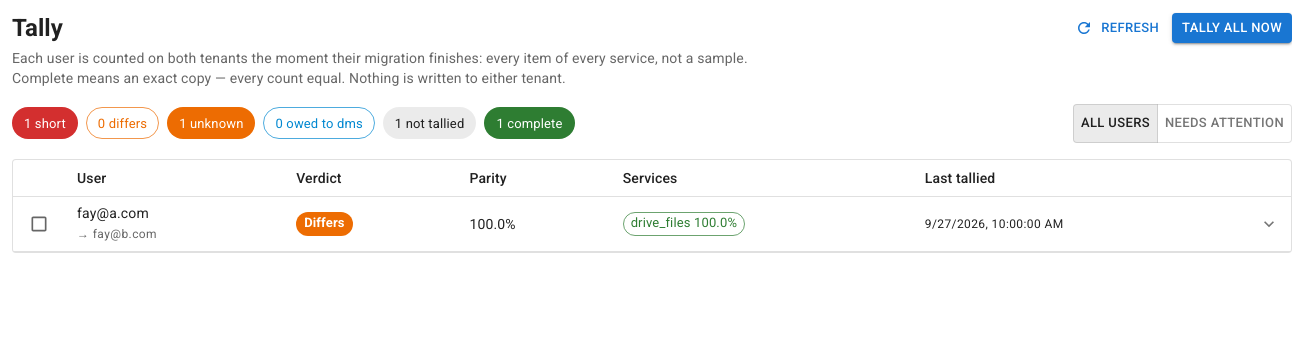
Test: what is found › shows counts that agree over items that do not as Differs, with which items
The image size is (1304, 360).
Check: the element with test id "verdict-fay@a.com" reads "Differs", box x1=304 y1=216 x2=345 y2=230
Click the button named "show fay@a.com": click(1269, 224) x1=1259 y1=214 x2=1279 y2=234
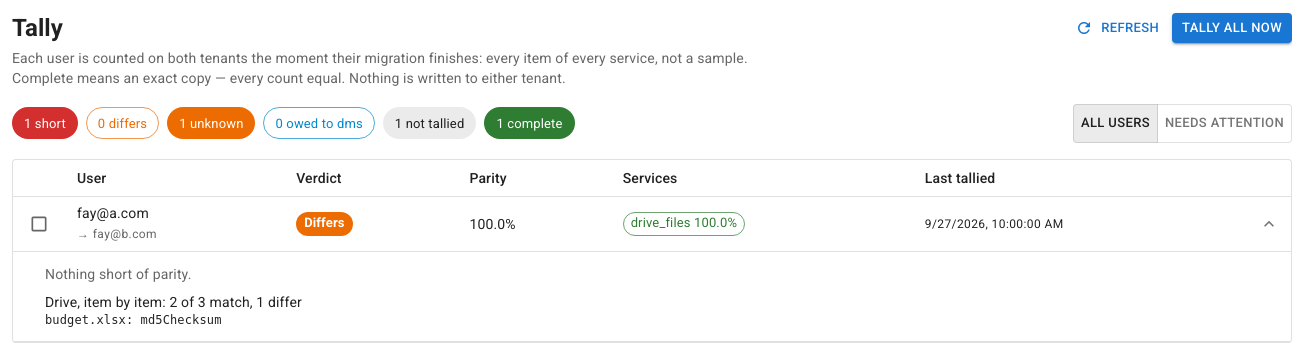
Check: the element with test id "items-fay@a.com" shows "2 of 3 match, 1 differ", box x1=45 y1=294 x2=302 y2=327
Check: the element with test id "items-fay@a.com" shows "budget.xlsx: md5Checksum", box x1=45 y1=294 x2=302 y2=327
